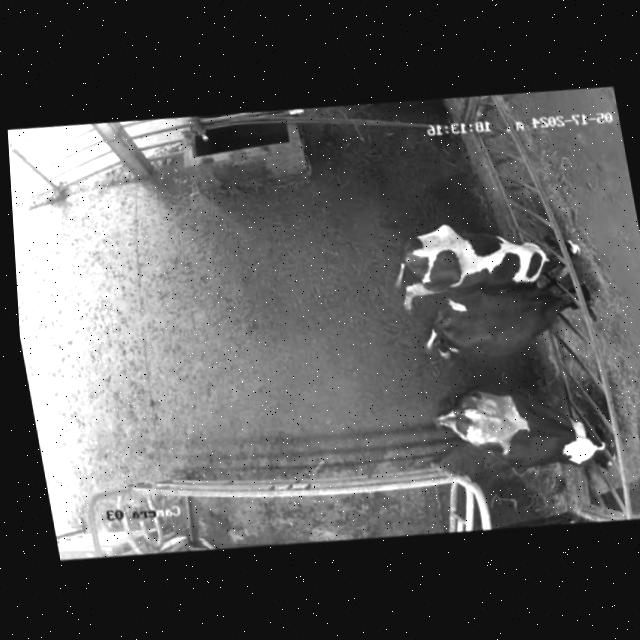eat: (523, 399, 640, 484), (495, 221, 615, 294), (520, 277, 623, 348)
